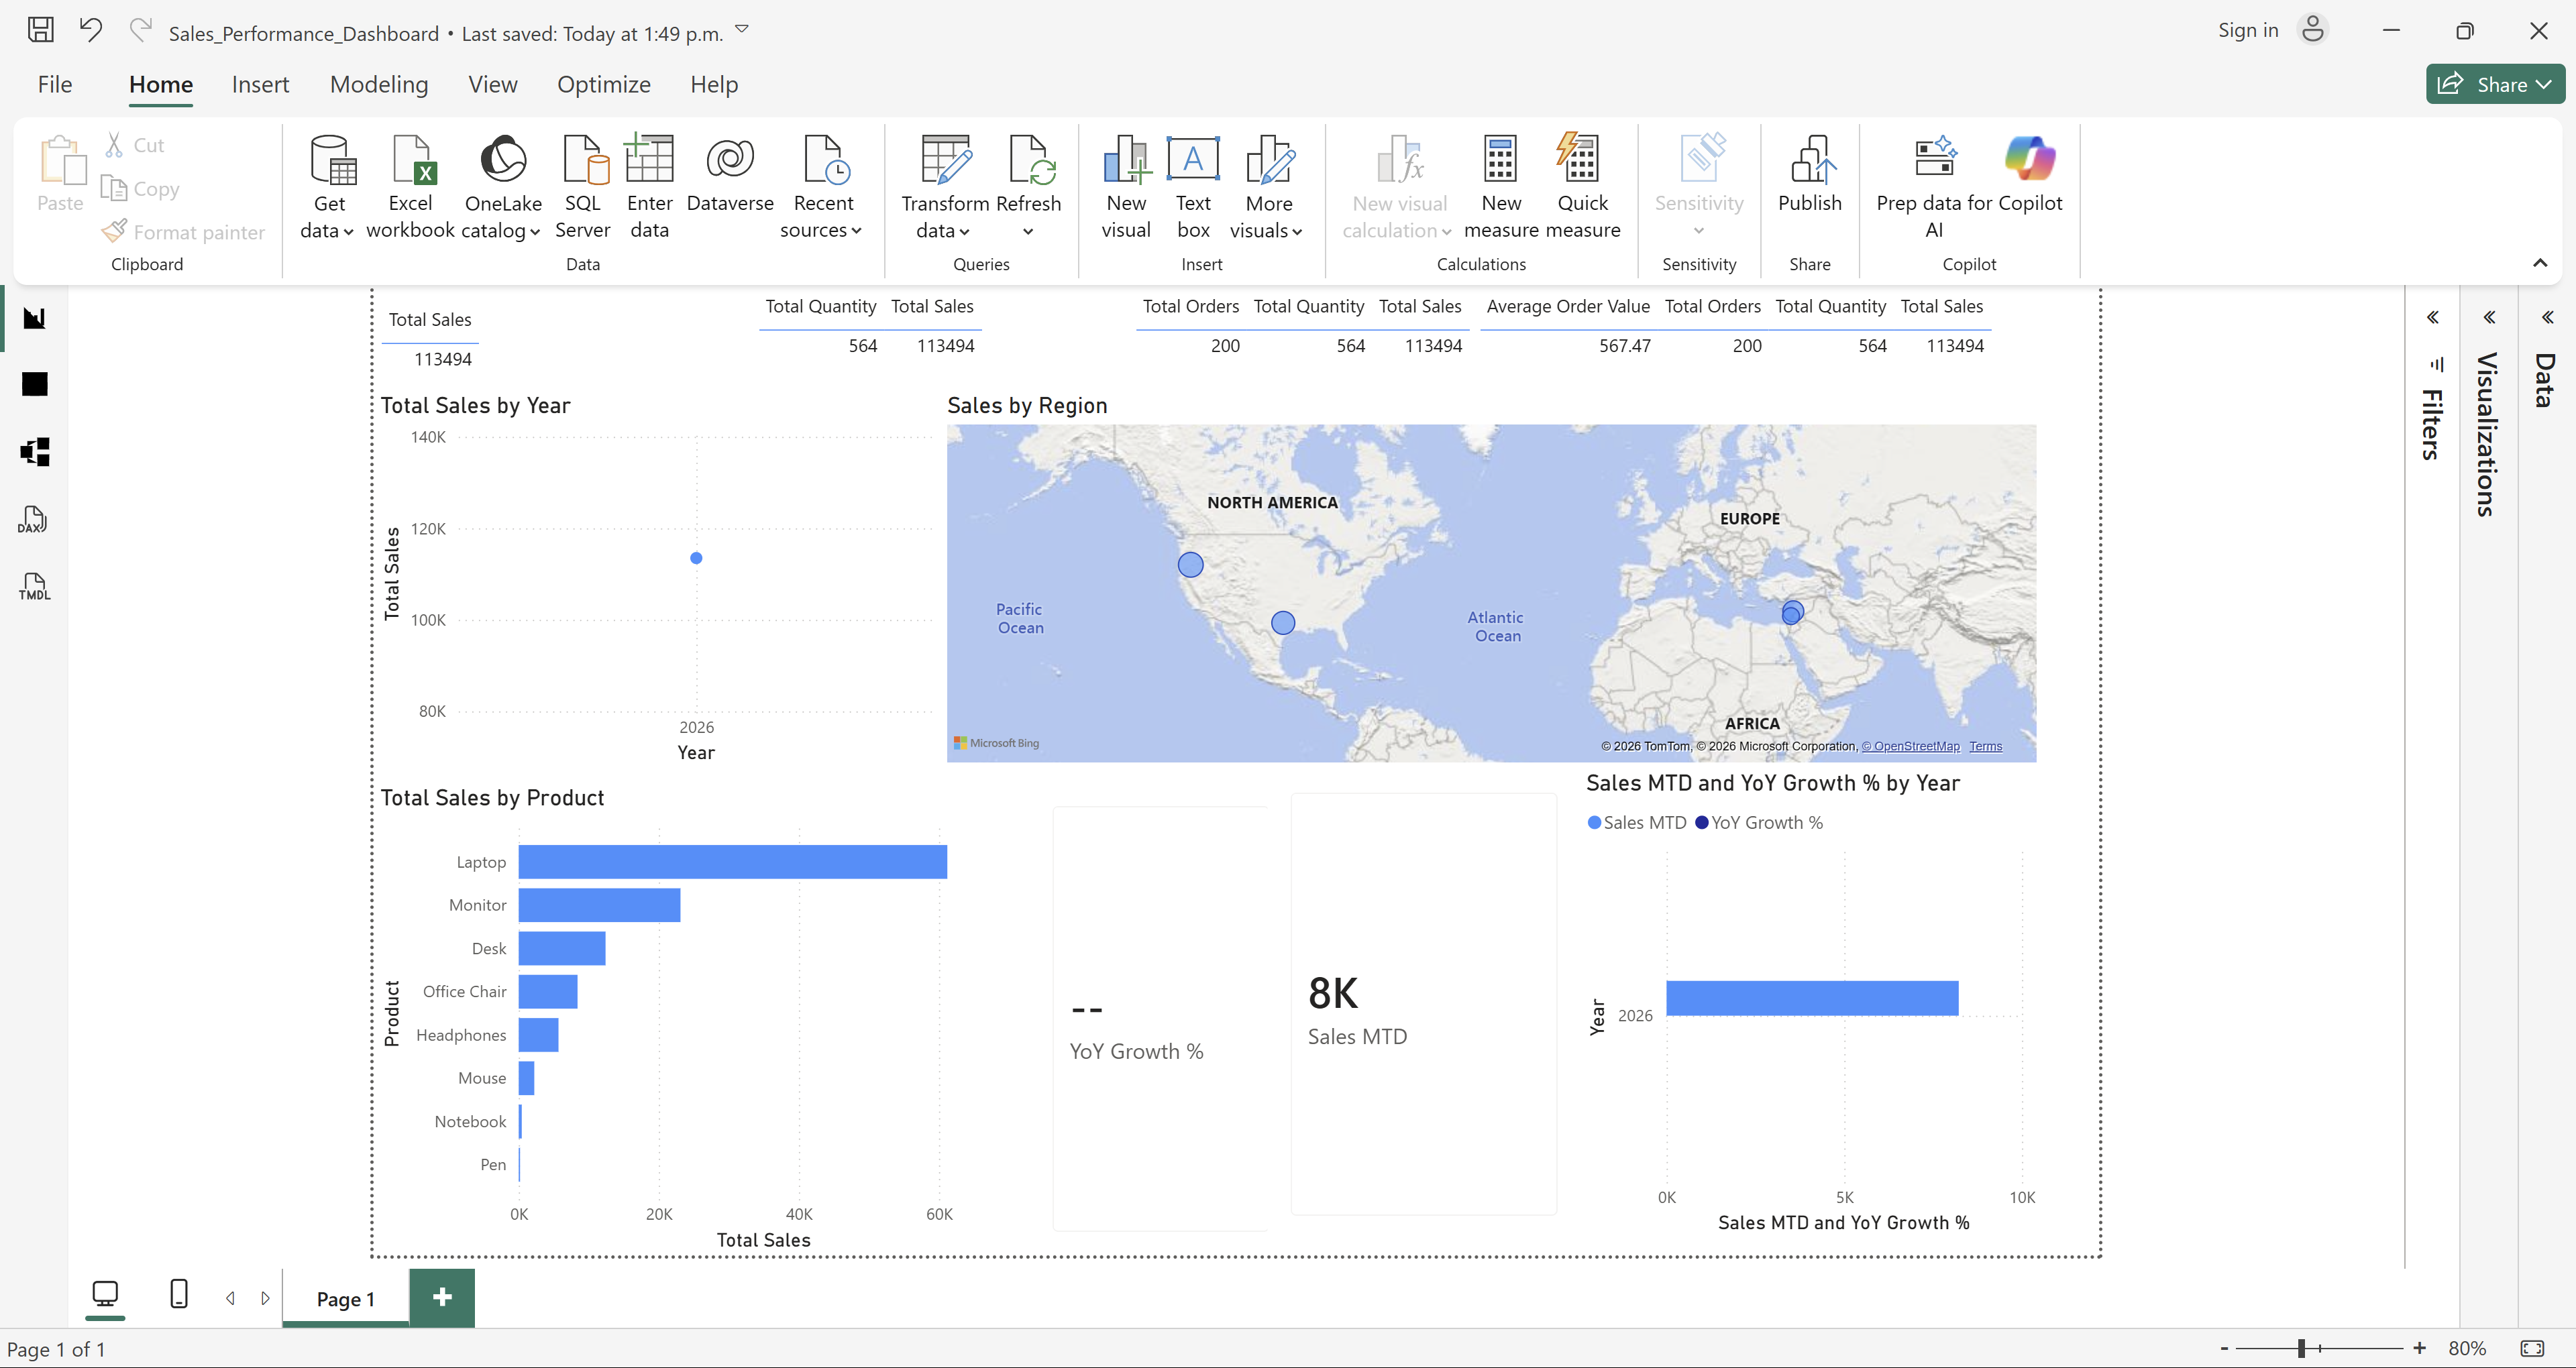

The page's visual inventory and layout, read from the dashboard file:
{"tool":"powerbi","page":{"name":"Page 1","canvas":[1280,720],"ordinal":0},"visuals":[{"type":"tableEx","fields":{"Values":["sales_data.Total Sales"]},"box":[0,9.6,279.9,70],"z":0},{"type":"tableEx","fields":{"Values":["sales_data.Total Quantity","sales_data.Total Sales"]},"box":[279.9,0,279.9,79.6],"z":1000},{"type":"tableEx","fields":{"Values":["sales_data.Total Orders","sales_data.Total Quantity","sales_data.Total Sales"]},"box":[559.9,0,285.4,79.6],"z":2000},{"type":"tableEx","fields":{"Values":["sales_data.Average Order Value","sales_data.Total Orders","sales_data.Total Quantity","sales_data.Total Sales"]},"box":[815.1,0,406.2,79.6],"z":3000},{"type":"lineChart","fields":{"Category":["sales_data.OrderDate.Variation.Date Hierarchy.Year","sales_data.OrderDate.Variation.Date Hierarchy.Quarter","sales_data.OrderDate.Variation.Date Hierarchy.Month","sales_data.OrderDate.Variation.Date Hierarchy.Day"],"Y":["sales_data.Total Sales"]},"box":[0,79.6,419.9,279.9],"z":4000},{"type":"map","title":"Sales by Region","fields":{"Category":["sales_data.Region"],"Size":["sales_data.Total Sales"]},"box":[419.9,79.6,817.8,279.9],"z":5000},{"type":"clusteredBarChart","fields":{"Category":["sales_data.Product"],"Y":["sales_data.Total Sales"]},"box":[0,370.6,486,350.3],"z":5001},{"type":"cardVisual","fields":{"Data":["sales_data.YoY Growth %"]},"box":[486,369.3,195.5,350.3],"z":5002},{"type":"cardVisual","fields":{"Data":["sales_data.Sales MTD"]},"box":[662.5,359.8,232.2,348.9],"z":5003},{"type":"clusteredBarChart","fields":{"Category":["sales_data.OrderDate.Variation.Date Hierarchy.Year","sales_data.OrderDate.Variation.Date Hierarchy.Quarter","sales_data.OrderDate.Variation.Date Hierarchy.Month","sales_data.OrderDate.Variation.Date Hierarchy.Day"],"Y":["sales_data.Sales MTD","sales_data.YoY Growth %"]},"box":[895,360,343,349],"z":5004}]}

Visuals, with their boxes on the page's 1280x720 design canvas (x1, y1, x2, y2). These are canvas units, not pixel positions in the 2576x1368 screenshot, which may show the page scaled, cropped or inside an application window:
tableEx - sales_data.Total Sales: (0,10,280,80)
tableEx - sales_data.Total Quantity x sales_data.Total Sales: (280,0,560,80)
tableEx - sales_data.Total Orders x sales_data.Total Quantity: (560,0,845,80)
tableEx - sales_data.Average Order Value x sales_data.Total Orders: (815,0,1221,80)
lineChart - sales_data.OrderDate.Variation.Date Hierarchy.Year x sales_data.OrderDate.Variation.Date Hierarchy.Quarter: (0,80,420,360)
"Sales by Region" map: (420,80,1238,360)
clusteredBarChart - sales_data.Product x sales_data.Total Sales: (0,371,486,721)
cardVisual - sales_data.YoY Growth %: (486,369,682,720)
cardVisual - sales_data.Sales MTD: (662,360,895,709)
clusteredBarChart - sales_data.OrderDate.Variation.Date Hierarchy.Year x sales_data.OrderDate.Variation.Date Hierarchy.Quarter: (895,360,1238,709)
